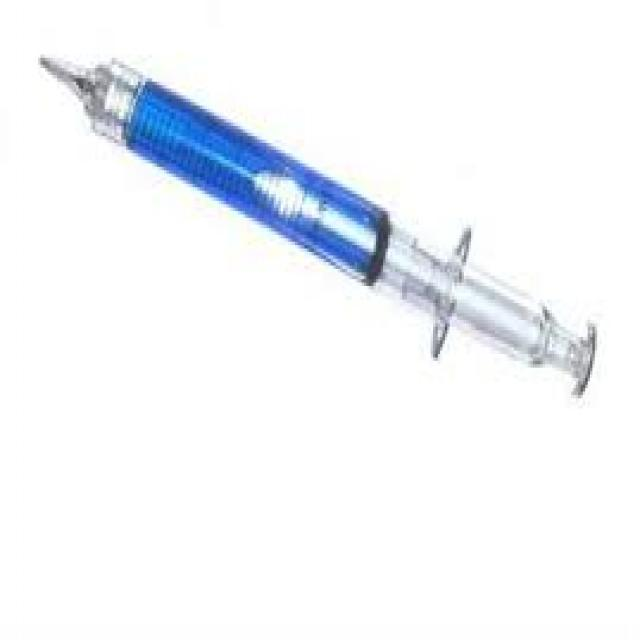syringe: (34, 28, 613, 410)
